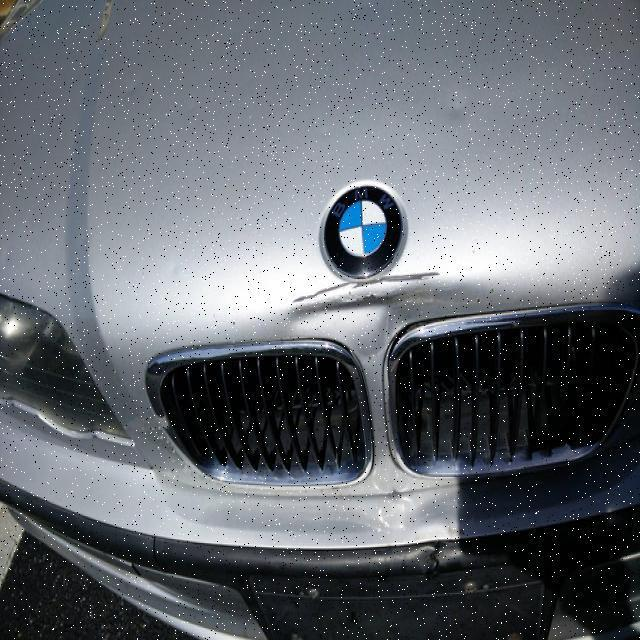headlight: (77, 0, 566, 373)
